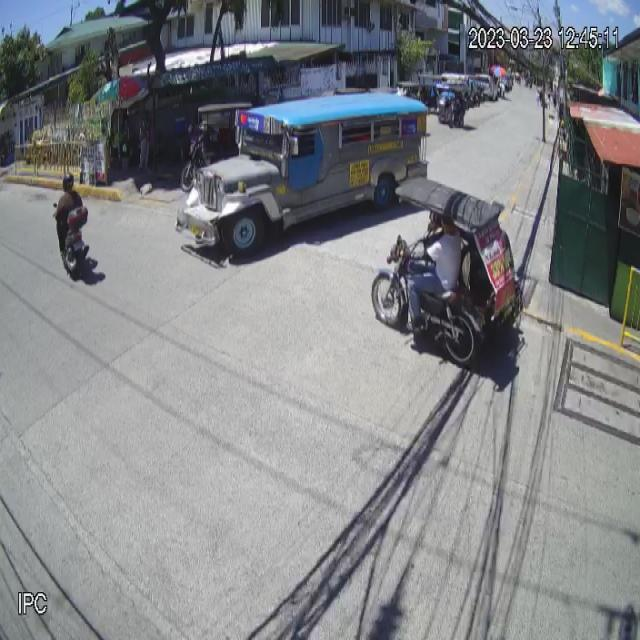Jeep: (175, 87, 429, 259)
Tricycle: (370, 175, 526, 368)
